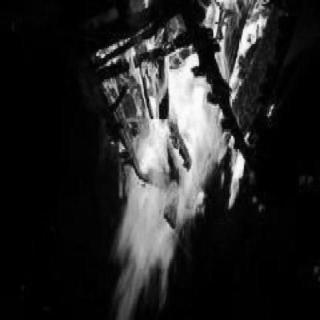Fire: (85, 4, 298, 316)
